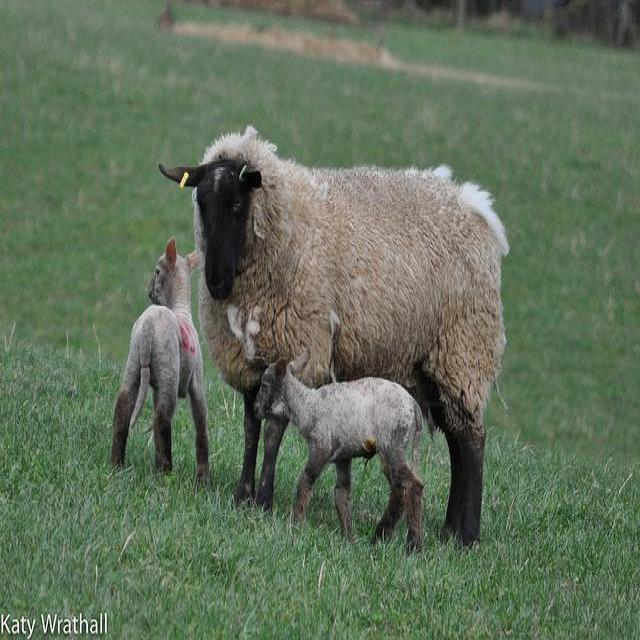Sheep: (159, 134, 509, 547), (256, 360, 424, 556), (110, 236, 212, 486)
